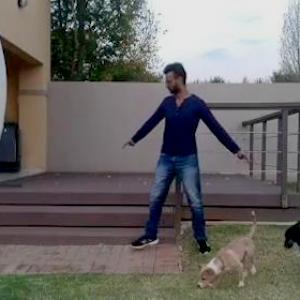land: (119, 61, 251, 252)
